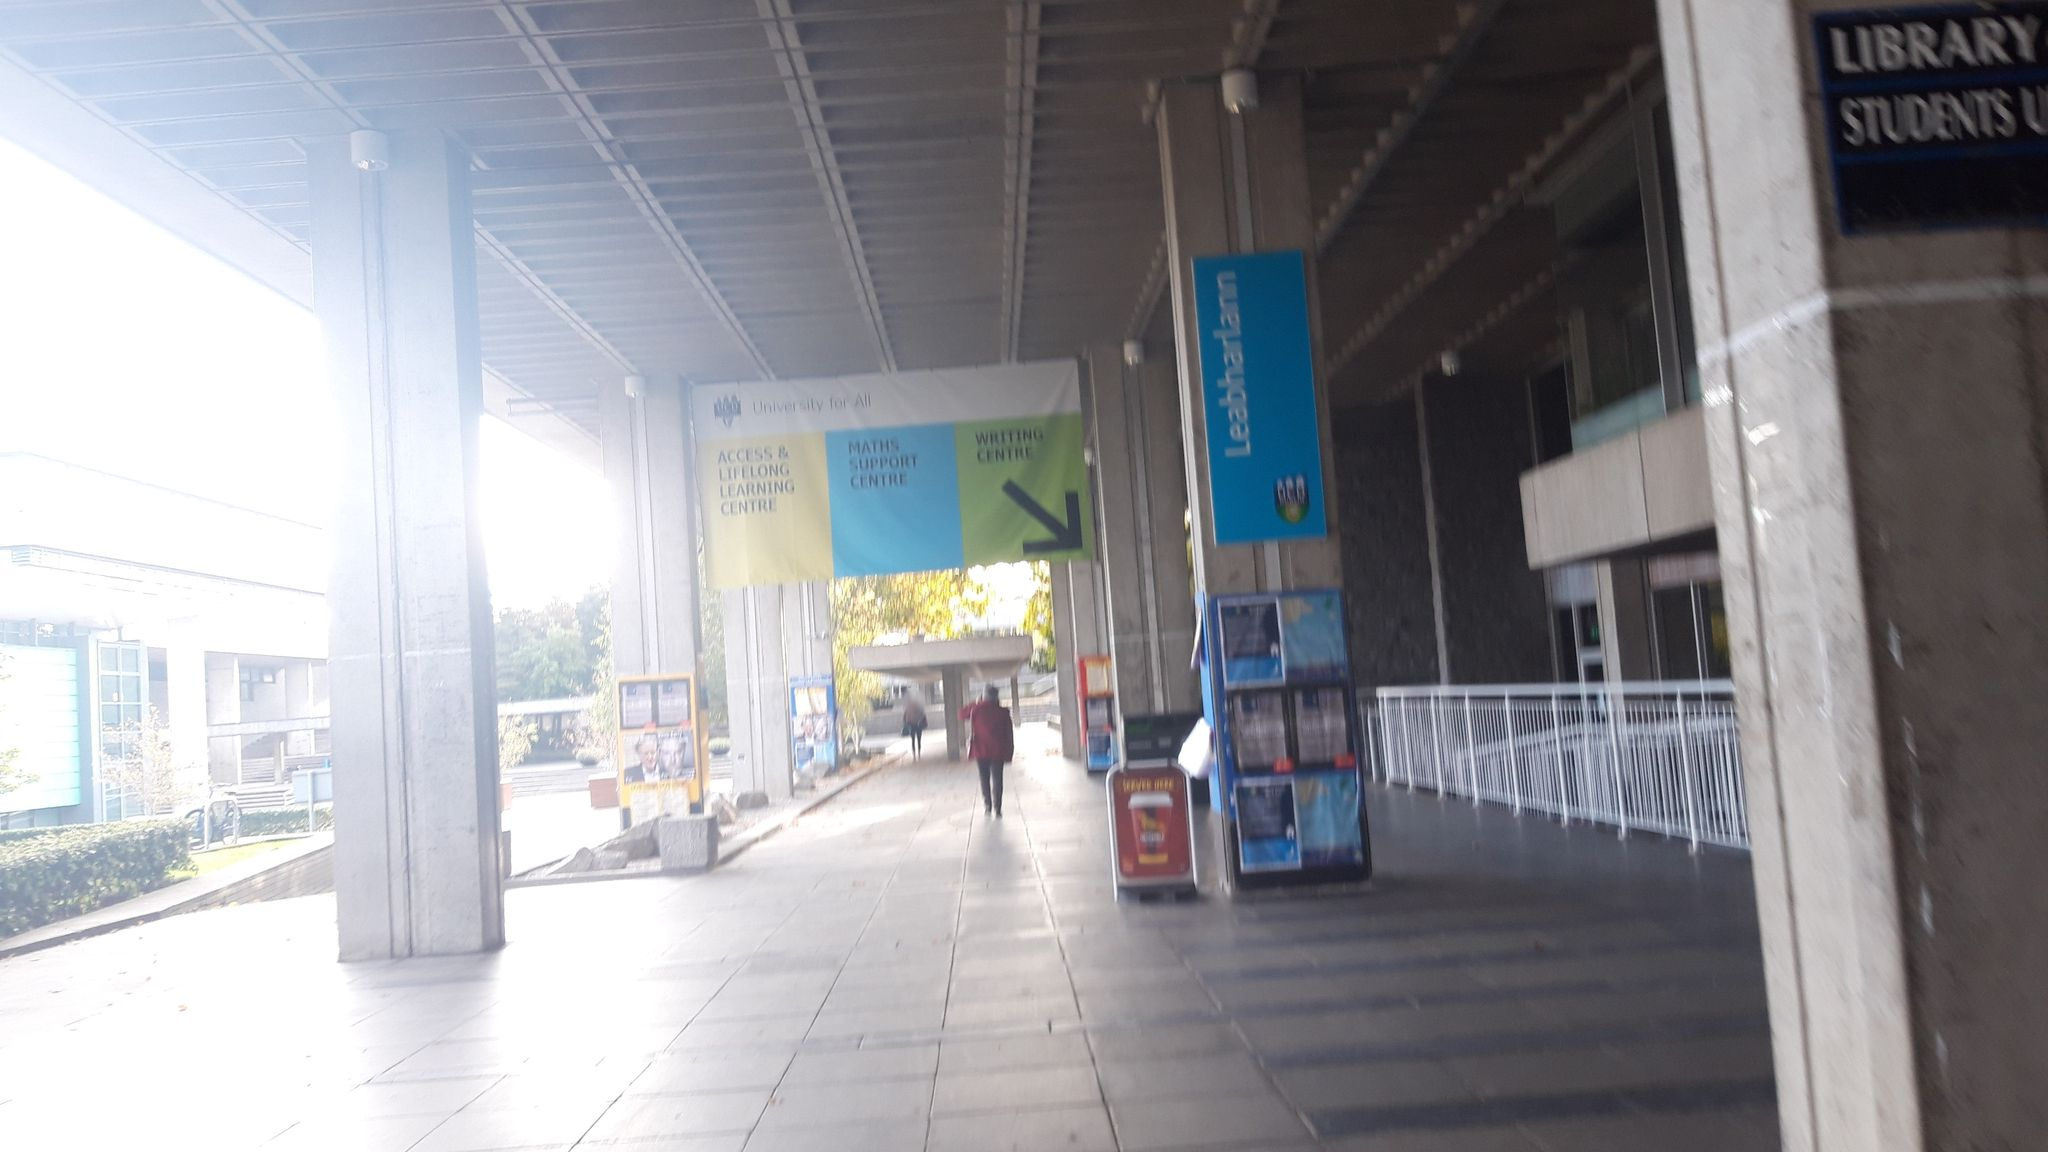vinyl banner: (679, 345, 1101, 596)
